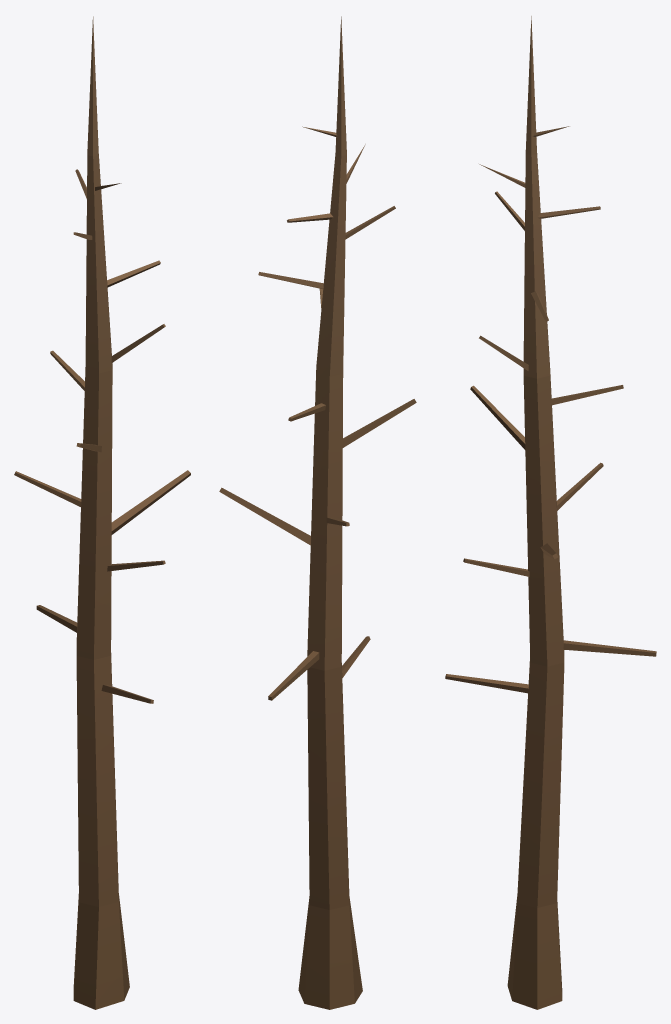
The model's file is SM_Nature_Tree_06.fbx.
3 views of the same model, side by side, from view 1: azimuth 30°, elevation 25°; view 2: azimuth 150°, elevation 25°; view 3: azimuth 270°, elevation 25° (orthographic).
Parts seen in each view (by area): view 1: SM_Nature_Tree_06_LOD0; view 2: SM_Nature_Tree_06_LOD0; view 3: SM_Nature_Tree_06_LOD0.
Boxes of the visible parts, x1,y1,x2,y2 form: SM_Nature_Tree_06_LOD0: (14, 16, 190, 1009); SM_Nature_Tree_06_LOD0: (219, 16, 416, 1009); SM_Nature_Tree_06_LOD0: (445, 16, 656, 1009).
Size of the model in its own units: 120 by 723 by 142.
